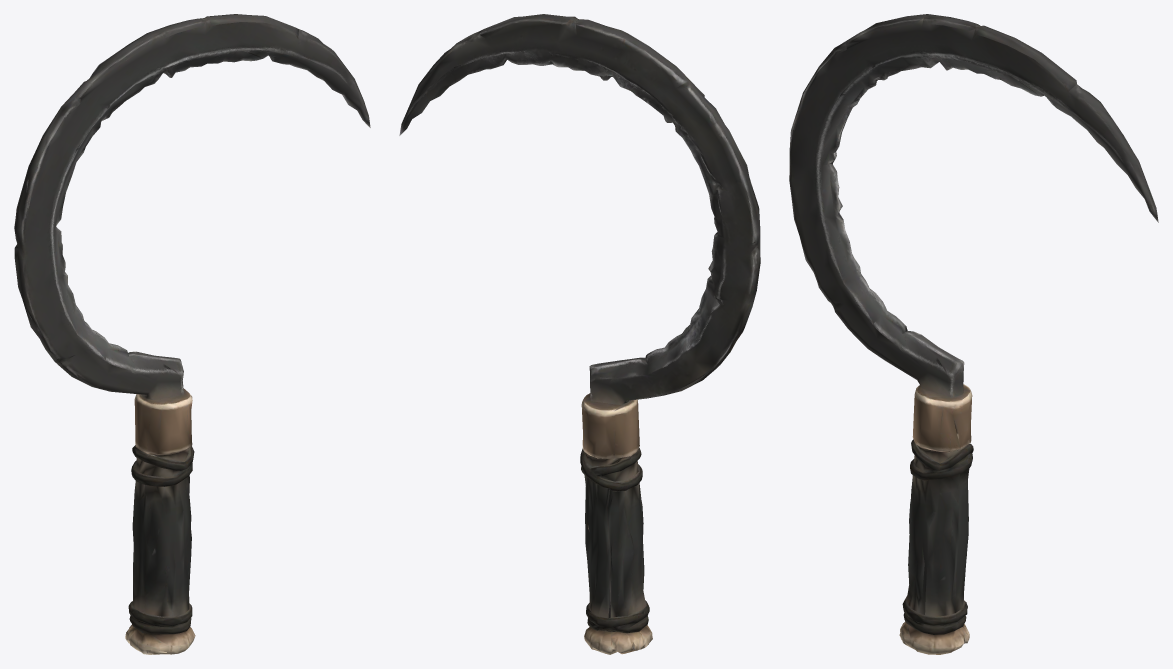
The model's file is sickle.glb.
The picture shows the model from 3 angles, left to right: view 1: azimuth 30°, elevation 25°; view 2: azimuth 150°, elevation 25°; view 3: azimuth 330°, elevation 25°; orthographic projection. The views are drawn at different scales.
Visible parts, largest first — view 1: weapon; view 2: weapon; view 3: weapon.
Boxes of the visible parts, x1,y1,x2,y2 form: weapon: [14, 14, 370, 654]; weapon: [399, 14, 760, 654]; weapon: [789, 14, 1158, 654].
Bounding box in the file's own units: 0.6042 × 1 × 0.1048.
Materials: 1 (1 with a texture image).
